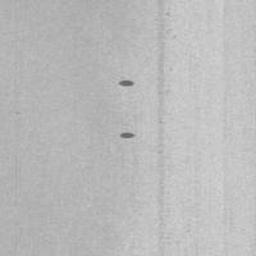Oil spot: (119, 131, 137, 141), (119, 79, 134, 87)
